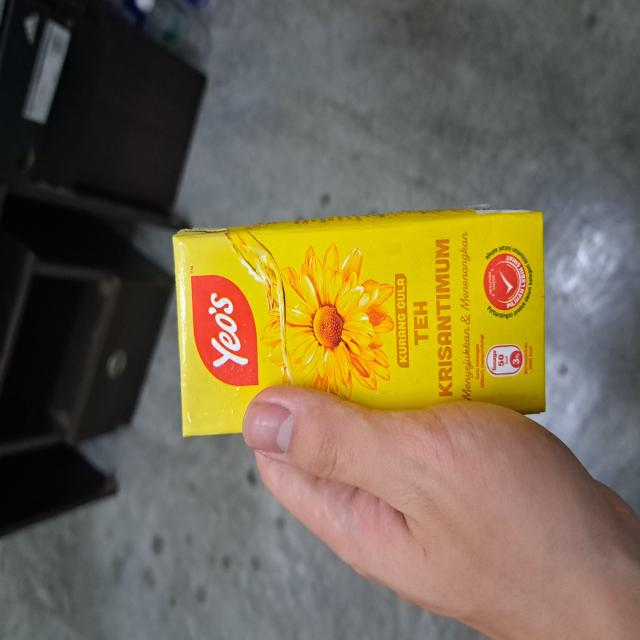drink carton: (175, 207, 544, 437)
